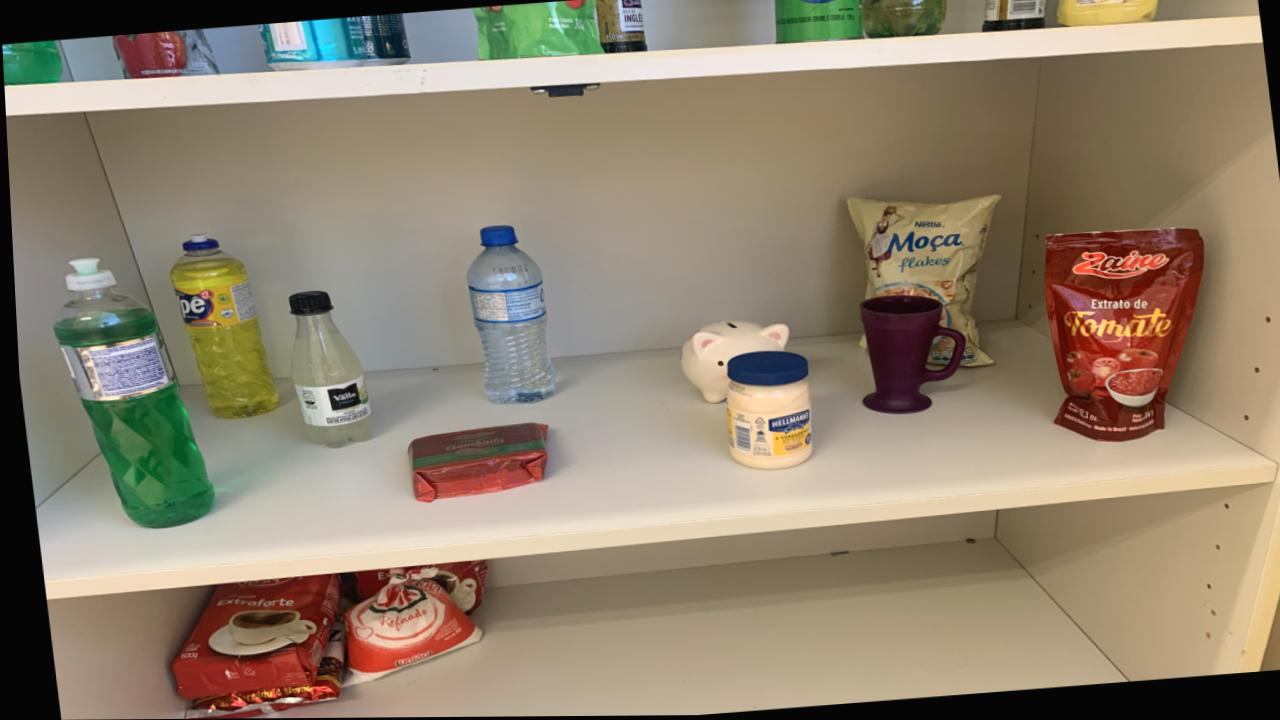Detergent-Cleanup_Items: (49, 258, 209, 528), (166, 234, 274, 419), (2, 40, 64, 85)
English_Sauce-Pantry_Items: (595, 0, 646, 54), (982, 0, 1047, 33)
Flakes-Snacks: (846, 197, 998, 368)
Guarana-Drinks: (860, 0, 947, 40)
Guarana_Can-Drinks: (350, 14, 409, 65)
Guava-Snacks: (404, 422, 543, 502)
Mayonnaise-Pantry_Items: (721, 351, 808, 471)
Mustard-Pantry_Items: (1056, 0, 1158, 27)
Pig_Safe-Miscellaneous: (675, 322, 785, 403)
Pringles-Snacks: (773, 0, 863, 43)
Soda-Drinks: (286, 292, 369, 447)
Tea-Drinks: (259, 17, 363, 70)
Tomato_Sauce-Pantry_Items: (1040, 229, 1201, 443), (471, 0, 606, 60), (113, 29, 217, 79)
Water_Bottle-Drinks: (462, 226, 551, 404)
